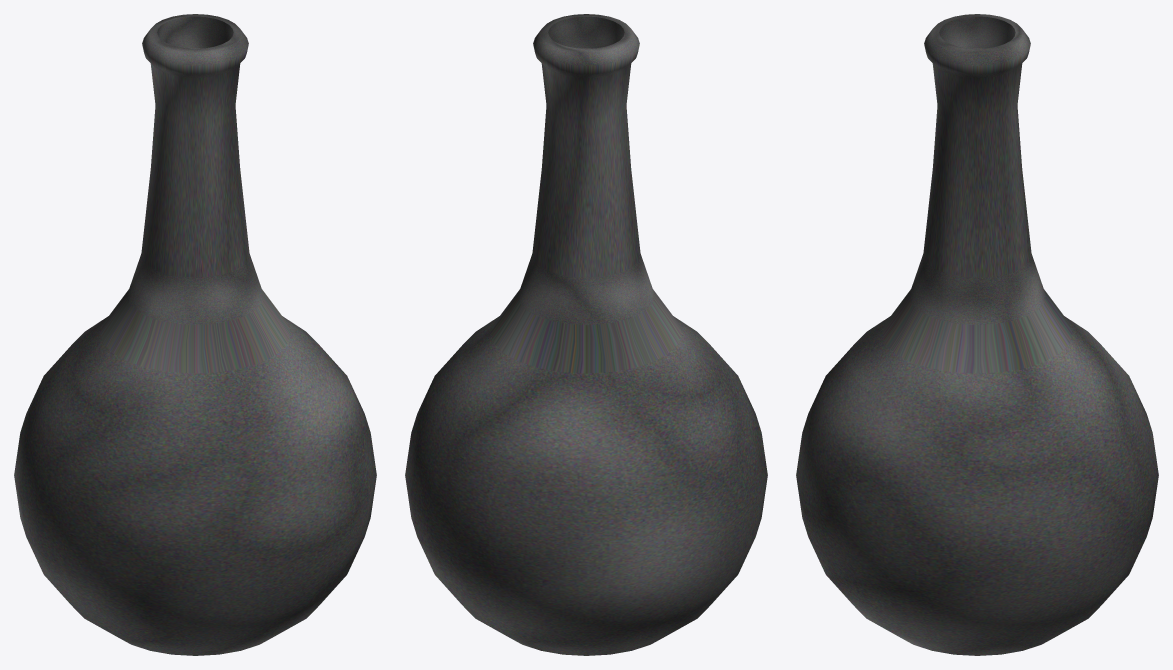
File: furniture12.fbx
3 views of the same model, side by side, from view 1: azimuth 30°, elevation 25°; view 2: azimuth 150°, elevation 25°; view 3: azimuth 270°, elevation 25° (orthographic).
Visible parts, largest first — view 1: Mesh; view 2: Mesh; view 3: Mesh.
Boxes of the visible parts, x1=… form: Mesh: x1=14, y1=14, x2=376, y2=655; Mesh: x1=405, y1=14, x2=767, y2=655; Mesh: x1=796, y1=14, x2=1158, y2=655.
Bounding box in the file's own units: 28 × 51.69 × 28.
